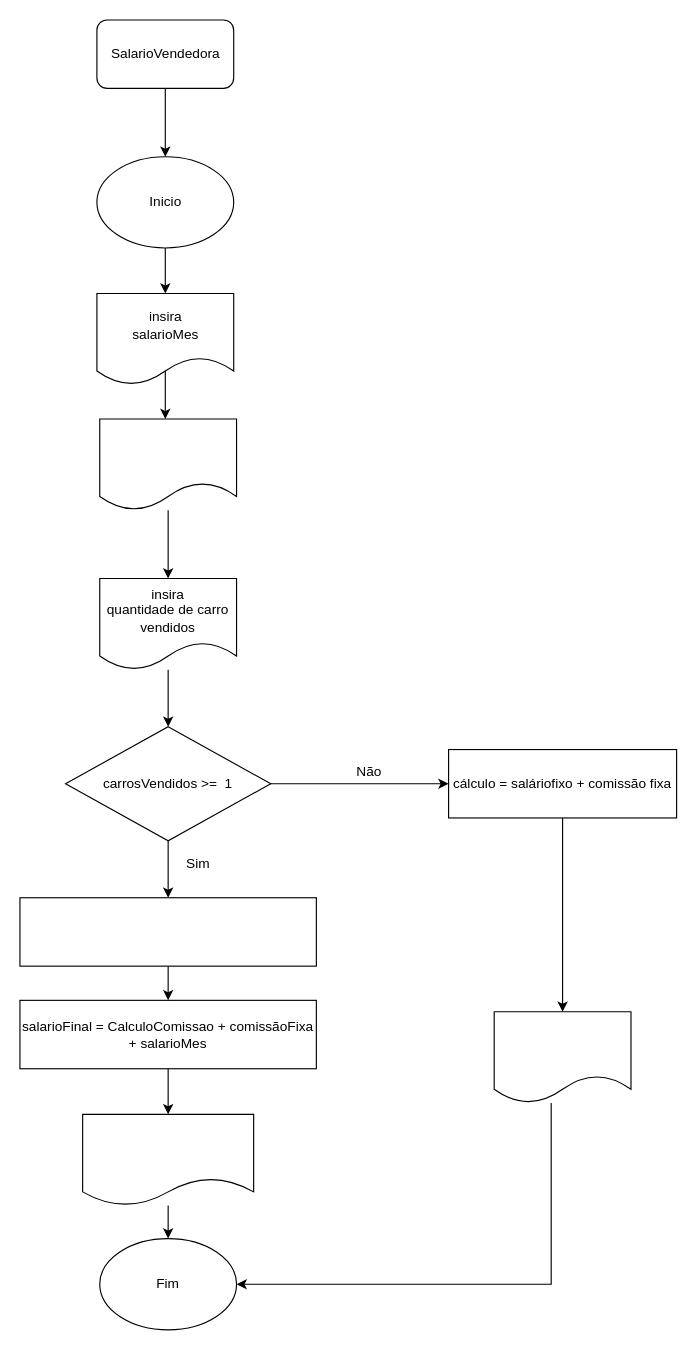
This 697x1350 diagram has some shape labels left out. The centre of each missing label's shape, as x and y in pixels:
"CalculoComissao = carrosVendidos * comissãoVenda 5%" belongs at (x=167, y=931).
"Exibir apenas salarioMes" belongs at (x=562, y=1057).
"insira comissaoMes" belongs at (x=168, y=464).
"salário final" belongs at (x=168, y=1159).
